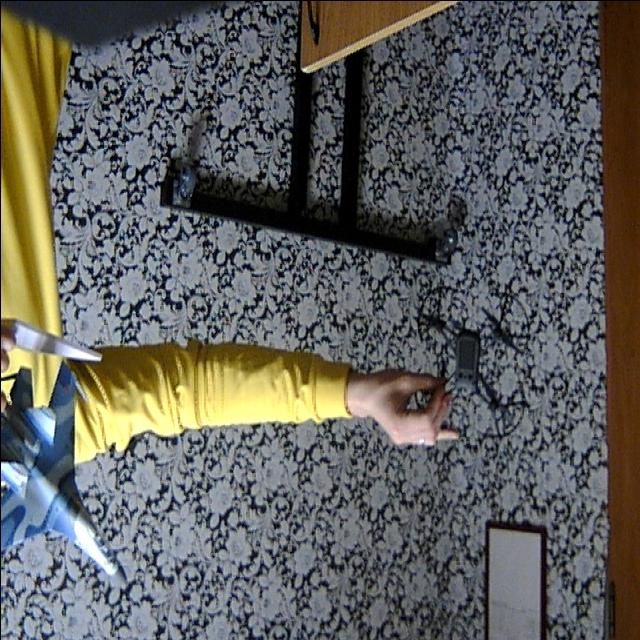drone: (405, 274, 537, 456)
